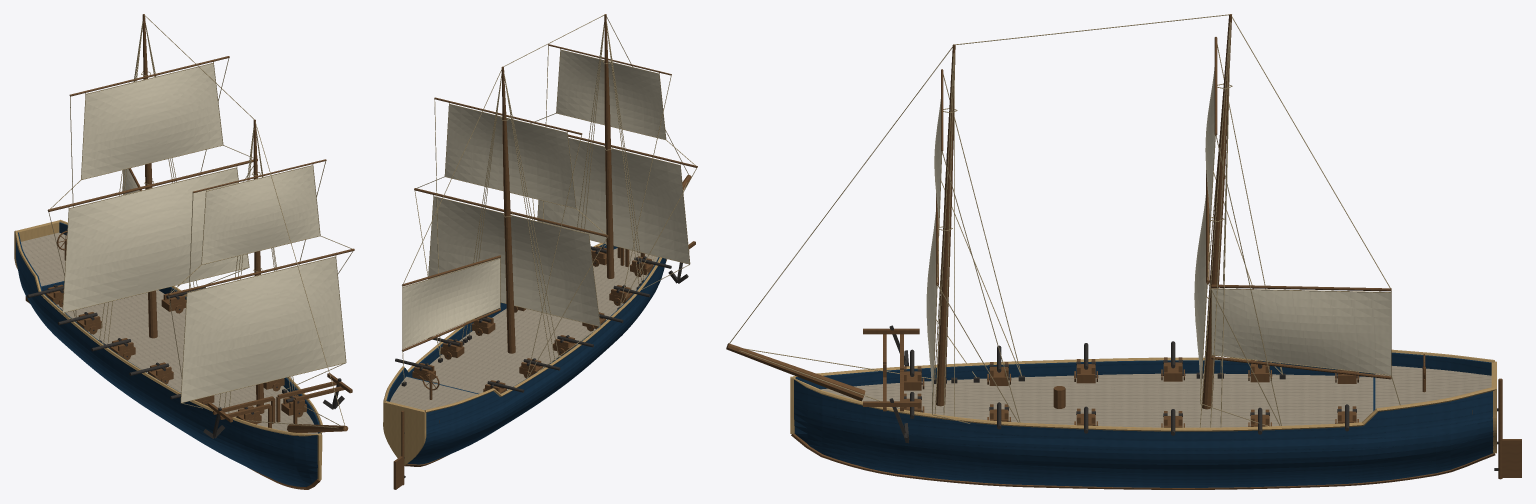
The model's file is ship.glb.
3 renders of one model, left to right at view 1: azimuth 30°, elevation 25°; view 2: azimuth 150°, elevation 25°; view 3: azimuth 270°, elevation 25°, orthographic. The views are drawn at different scales.
Visible parts, largest first — view 1: fore_square_00, main_square_00, main_square_01, hull_shell_starboard, fore_square_01, main_deck, castle_deck_0, gunwale_starboard, main, main_square_00_yard, stern_closure, fore_square_00_yard (+5 smaller); view 2: main_square_00, fore_square_00, main_square_01, main_deck, hull_shell_starboard, fore_square_01, main_gaff_02, stern_closure, main, fore, castle_deck_0, gunwale_starboard (+8 smaller); view 3: hull_shell_port, main_deck, main_gaff_02, hull_shell_starboard, castle_deck_0, gunwale_port, main, fore, keel, gunwale_starboard, bowsprit, main_square_00 (+2 smaller).
Boxes of the visible parts, x1,y1,x2,y2 form: fore_square_00: [181, 257, 345, 402]; main_square_00: [63, 168, 248, 312]; main_square_01: [81, 63, 222, 179]; hull_shell_starboard: [16, 232, 317, 486]; fore_square_01: [202, 165, 319, 264]; main_deck: [56, 290, 317, 433]; castle_deck_0: [21, 232, 66, 286]; gunwale_starboard: [14, 230, 317, 436]; main: [142, 14, 157, 338]; main_square_00_yard: [47, 159, 257, 211]; stern_closure: [14, 220, 59, 269]; fore_square_00_yard: [168, 248, 354, 295]; main_square_00: [428, 197, 599, 326]; fore_square_00: [537, 138, 689, 263]; main_square_01: [445, 104, 575, 208]; main_deck: [430, 248, 658, 393]; hull_shell_starboard: [407, 257, 666, 464]; fore_square_01: [556, 50, 665, 139]; main_gaff_02: [403, 259, 499, 348]; stern_closure: [383, 401, 426, 464]; main: [501, 66, 515, 353]; fore: [604, 14, 614, 278]; castle_deck_0: [390, 376, 477, 410]; gunwale_starboard: [424, 257, 661, 412]; hull_shell_port: [794, 379, 1493, 487]; main_deck: [821, 373, 1373, 427]; main_gaff_02: [1212, 289, 1390, 374]; hull_shell_starboard: [795, 352, 1491, 389]; castle_deck_0: [1375, 366, 1491, 408]; gunwale_port: [793, 378, 1494, 431]; main: [1202, 14, 1231, 409]; fore: [936, 44, 955, 406]; keel: [791, 433, 1495, 489]; gunwale_starboard: [793, 349, 1494, 376]; bowsprit: [726, 343, 865, 401]; main_square_00: [1194, 195, 1206, 393].
Bounding box in the file's own units: 9.88 × 17.21 × 26.09.
7 materials, 7 textured.
